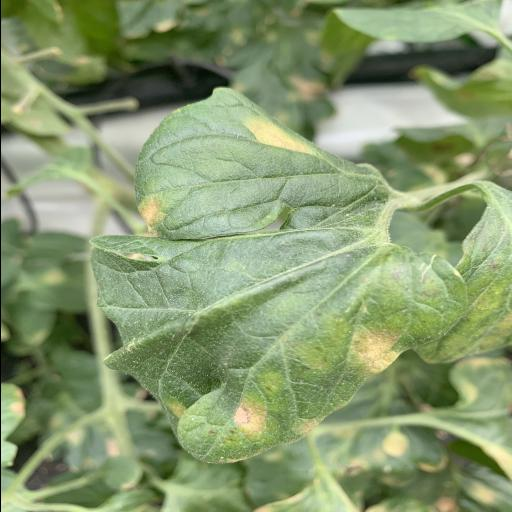Leaf Mold: (87, 87, 466, 465)
